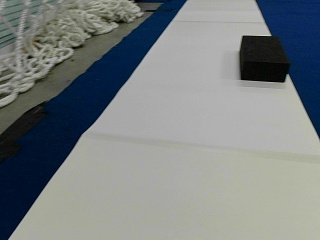block: (239, 35, 288, 83)
